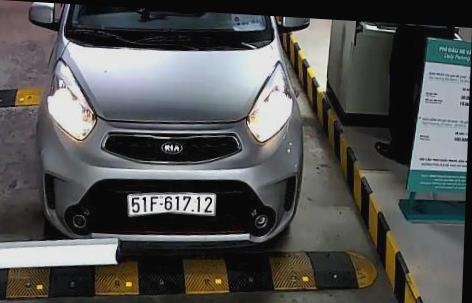License_Plate: (125, 188, 217, 223)
